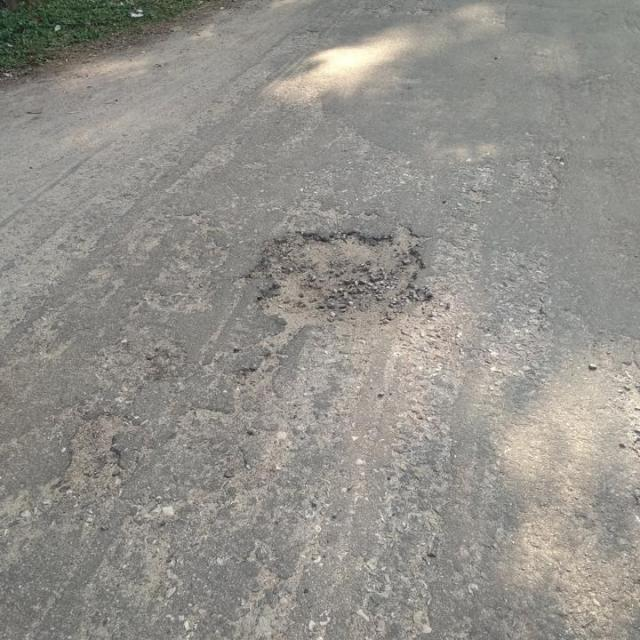Pothole: (253, 222, 440, 345), (66, 414, 133, 489)
